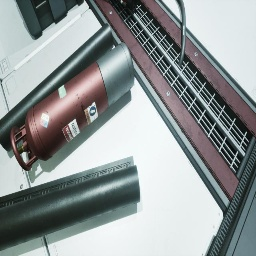FireExtinguisher ]: (116, 0, 138, 11)
NitrogenTank ,: (10, 42, 134, 171)
